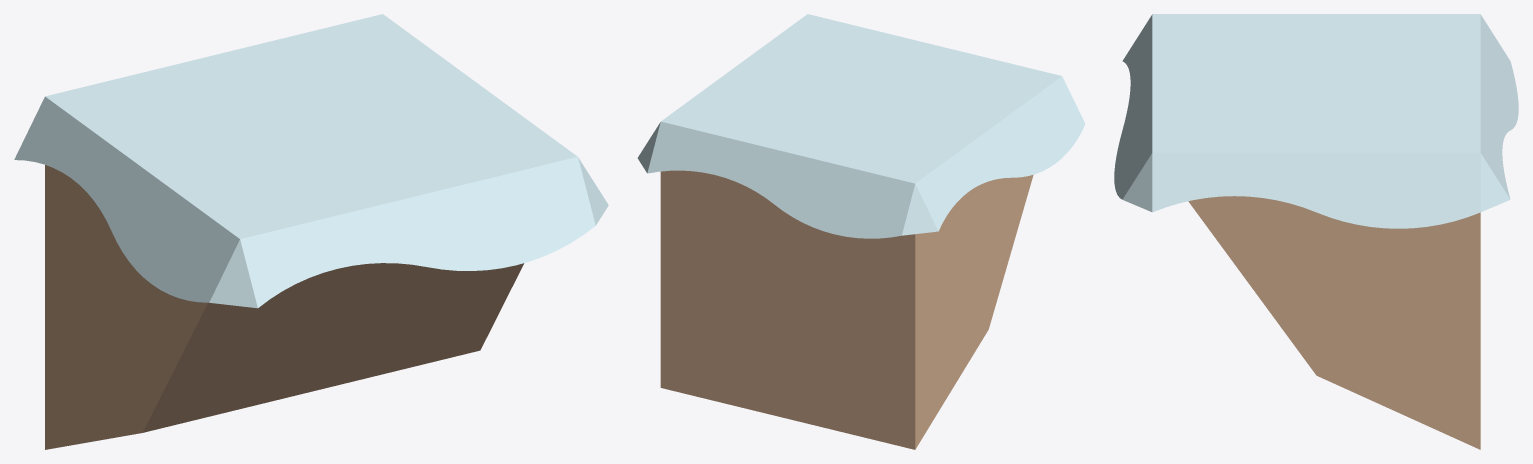
Rendered from blockSnowCliff.glb.
3 renders of one model, left to right at view 1: azimuth 30°, elevation 25°; view 2: azimuth 150°, elevation 25°; view 3: azimuth 270°, elevation 25°, orthographic. The views are drawn at different scales.
Parts seen in each view (by area): view 1: blockSnowCliff(Clone); view 2: blockSnowCliff(Clone); view 3: blockSnowCliff(Clone).
Boxes of the visible parts, bbox=[...] form: blockSnowCliff(Clone): bbox=[14, 14, 608, 449]; blockSnowCliff(Clone): bbox=[637, 14, 1085, 449]; blockSnowCliff(Clone): bbox=[1114, 14, 1518, 449].
Bounding box in the file's own units: 1.23 × 1 × 1.23.
